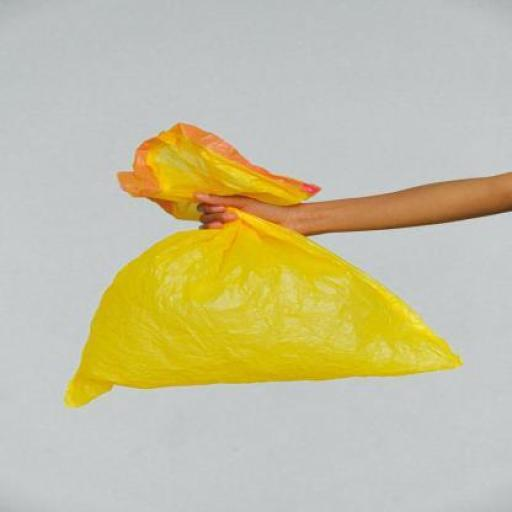plastic bag: (63, 119, 476, 407)
